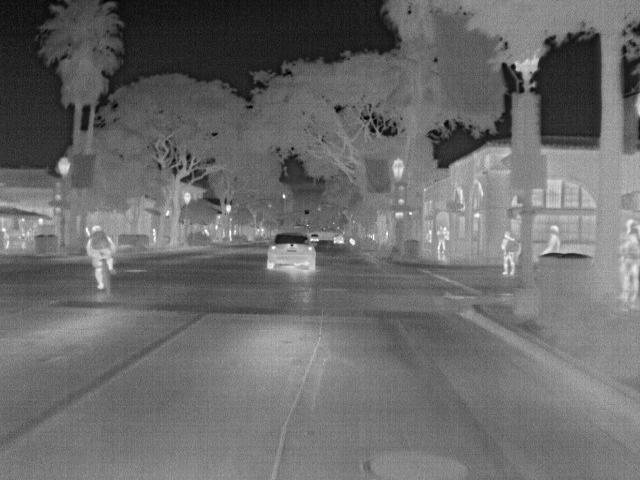car: (264, 233, 316, 274), (331, 234, 348, 246)
person: (85, 223, 116, 294), (619, 220, 638, 296), (499, 228, 518, 276), (542, 224, 563, 255), (433, 224, 448, 252)
